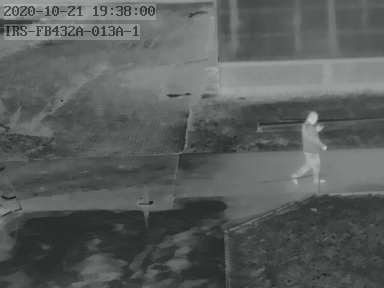person: (297, 107, 328, 184)
